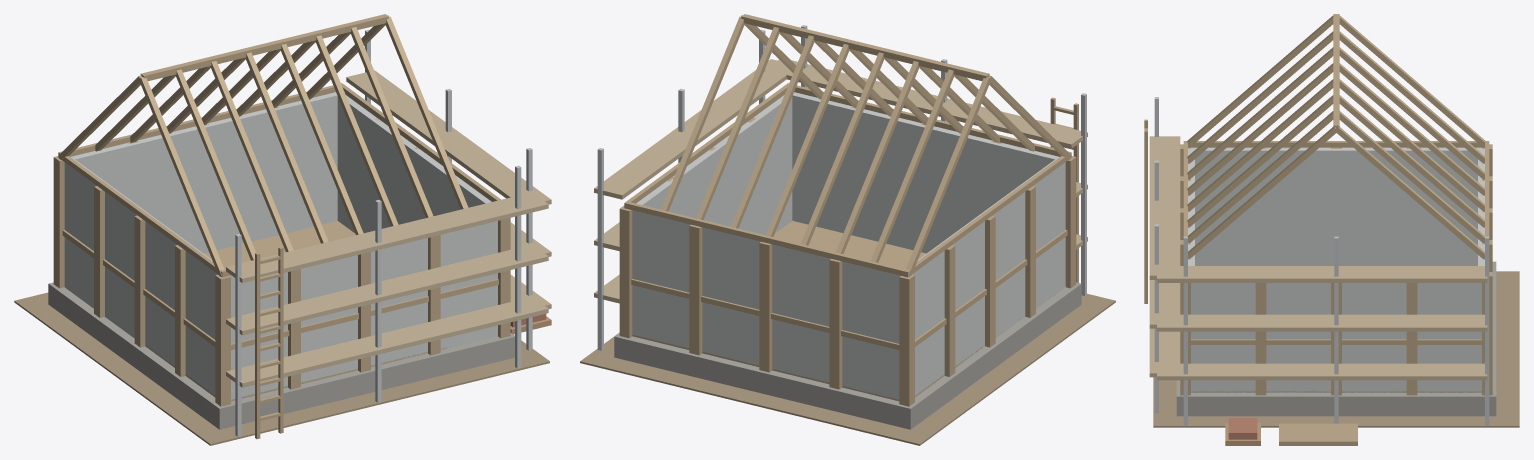
Rendered from spa_site_9.glb.
3 renders of one model, left to right at view 1: azimuth 30°, elevation 25°; view 2: azimuth 150°, elevation 25°; view 3: azimuth 270°, elevation 25°, orthographic. The views are drawn at different scales.
Parts seen in each view (by area): view 1: body; view 2: body; view 3: body.
Part boxes in pixels (x1,y1,x2,y2): body: (14,14,551,445); body: (580,14,1115,445); body: (1144,14,1519,445).
Bounding box in the file's own units: 2.28 × 1.68 × 2.09.
